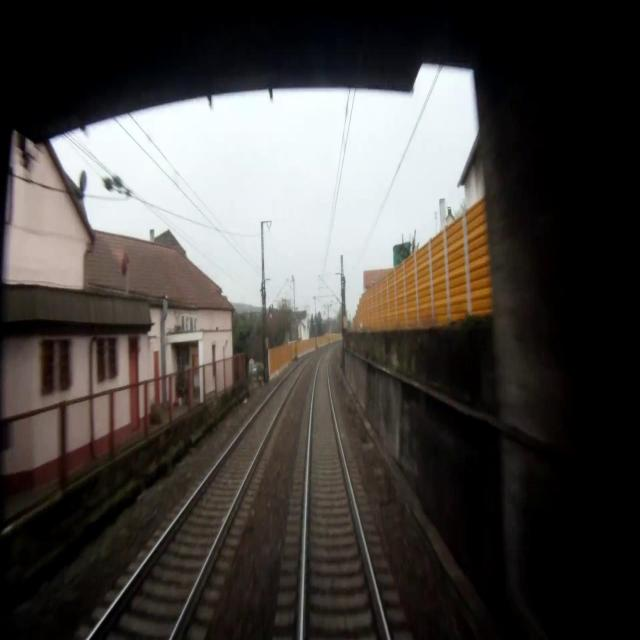rail-track: (92, 364, 301, 639), (305, 351, 387, 639)
